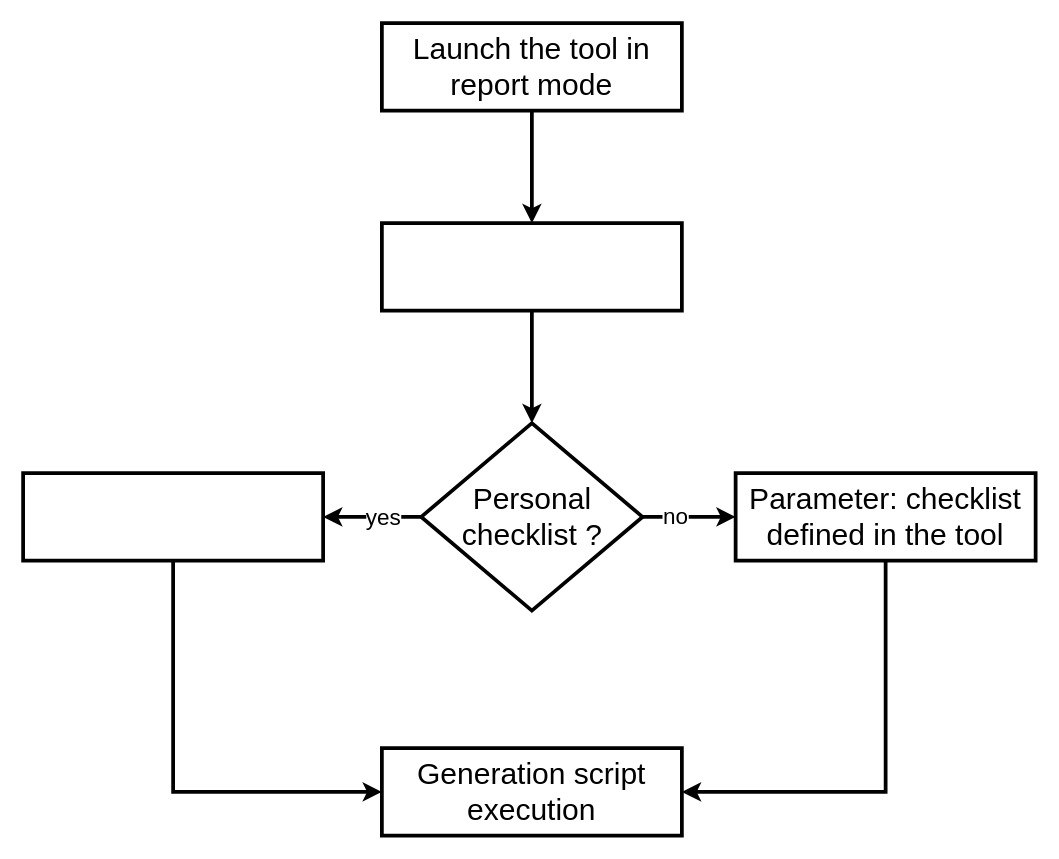
Some shapes in this 1059 by 859 pixel diagram are drawn without their labels. Here are the shapes that lost their labels. From the top down, the centre of each, then its label:
pixel 531 266: Parameter: collection results
pixel 172 516: Parameter: path to the checklist
